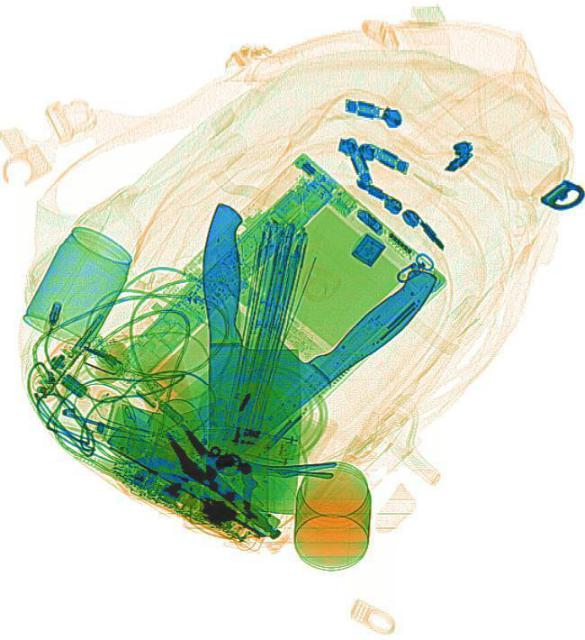Knife: (133, 217, 446, 495), (200, 202, 301, 512)
